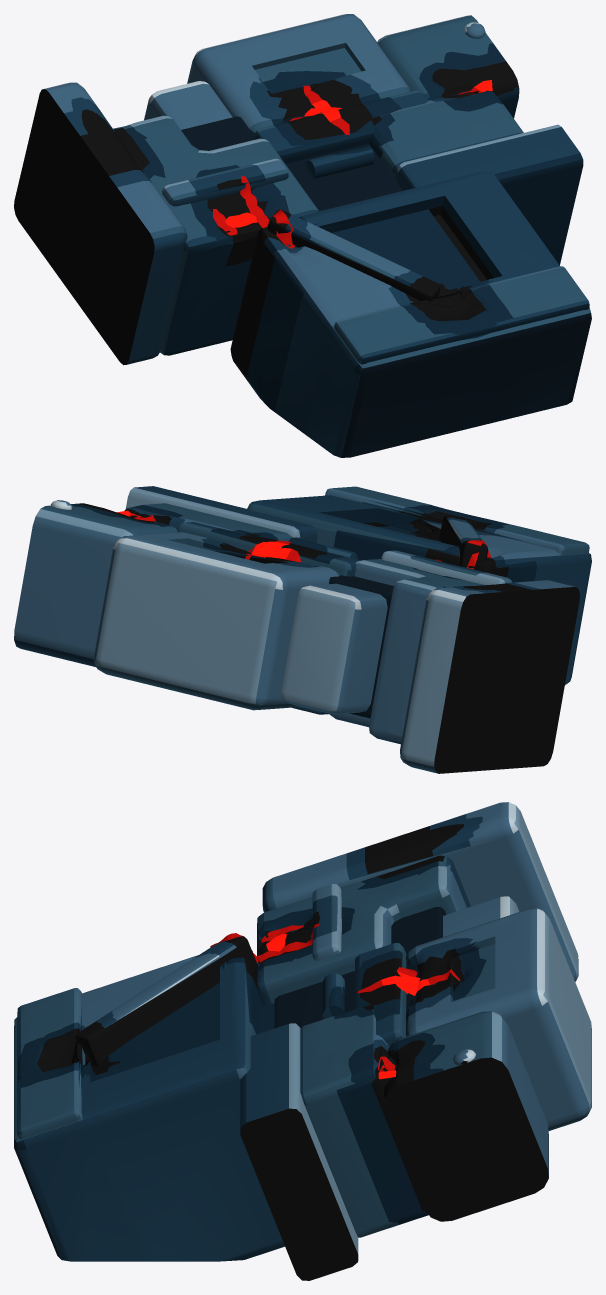
The model's file is deli_cannon_dmg_mount.glb.
3 renders of one model, top to bottom at view 1: azimuth 30°, elevation 25°; view 2: azimuth 150°, elevation 25°; view 3: azimuth 270°, elevation 25°, orthographic. The views are drawn at different scales.
Parts seen in each view (by area): view 1: trunnion.001, rear_block.001, lower_box.001, sight.001, base_strip.001, ledge.001, hull.001, lower_block.001, core.001, sight_base.001, strut.001, rail.001 (+3 smaller); view 2: sight.001, rear_block.001, hull.001, trunnion.001, small_box.001, lower_box.001, base_strip.001, ledge.001, sight_base.001, lower_block.001, rail.001, strut.001 (+3 smaller); view 3: trunnion.001, hull.001, sight.001, lower_block.001, ledge.001, rear_block.001, lower_box.001, base_strip.001, strut.001, core.001, sight_base.001, cracks.001 (+3 smaller).
Boxes of the visible parts, x1,y1,x2,y2 form: trunnion.001: (230,171,591,457); rear_block.001: (14,82,187,365); lower_box.001: (113,115,318,355); sight.001: (187,14,410,132); base_strip.001: (334,266,589,364); ledge.001: (395,124,583,265); hull.001: (377,15,519,118); lower_block.001: (369,90,523,176); core.001: (181,91,468,211); sight_base.001: (254,90,427,163); strut.001: (267,209,440,301); rail.001: (162,158,288,206); sight.001: (94,532,339,710); rear_block.001: (400,580,579,773); hull.001: (14,503,177,666); trunnion.001: (247,495,591,684); small_box.001: (281,583,387,714); lower_box.001: (329,559,515,744); base_strip.001: (325,486,589,554); ledge.001: (125,486,317,542); sight_base.001: (177,522,361,714); lower_block.001: (124,503,292,541); rail.001: (381,550,512,584); strut.001: (439,515,488,567); trunnion.001: (14,950,284,1261); hull.001: (384,1011,548,1221); sight.001: (406,908,591,1130); lower_block.001: (300,1004,428,1237); ledge.001: (240,1023,358,1280); rear_block.001: (262,802,578,981); lower_box.001: (257,855,470,1006); base_strip.001: (17,988,85,1139); strut.001: (75,935,257,1066); core.001: (274,907,446,1079); sight_base.001: (355,943,406,1047); cracks.001: (210,923,459,1079).
Bounding box in the file's own units: 24 × 13.54 × 25.52.
